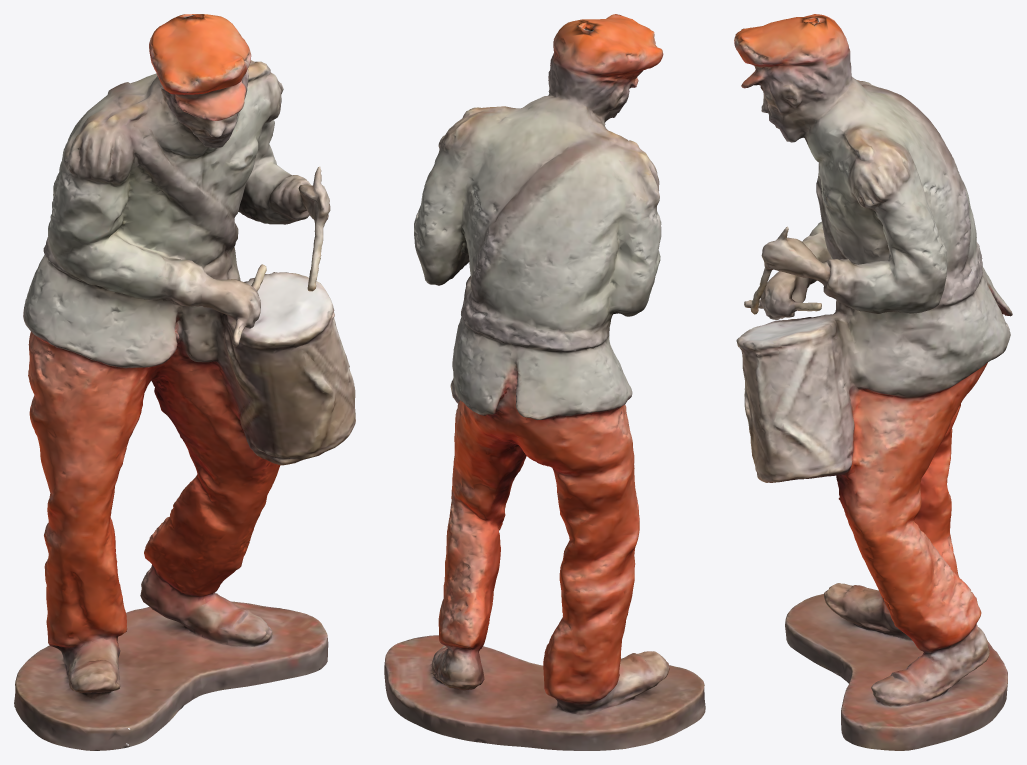
Rendered from khanna-adhikari-dada-drum-walae.glb.
3 renders of one model, left to right at view 1: azimuth 30°, elevation 25°; view 2: azimuth 150°, elevation 25°; view 3: azimuth 270°, elevation 25°, orthographic. The views are drawn at different scales.
Parts seen in each view (by area): view 1: muscianbeatingdrums_001; view 2: muscianbeatingdrums_001; view 3: muscianbeatingdrums_001.
Boxes of the visible parts, <box> form: muscianbeatingdrums_001: <box>14,14,355,750</box>; muscianbeatingdrums_001: <box>384,14,705,750</box>; muscianbeatingdrums_001: <box>734,14,1012,750</box>.
Size of the model in its own units: 0.2279 by 0.5 by 0.1928.
1 material, 1 textured.
